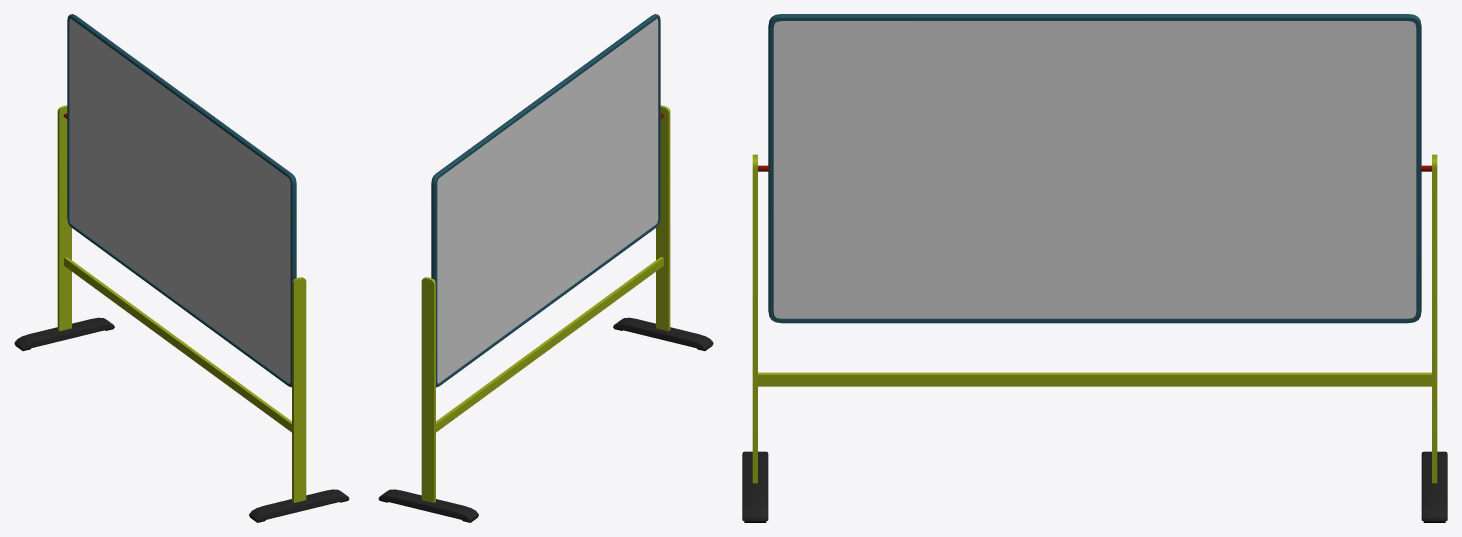
The model's file is Pizarra.fbx.
3 renders of one model, left to right at view 1: azimuth 30°, elevation 25°; view 2: azimuth 150°, elevation 25°; view 3: azimuth 270°, elevation 25°, orthographic. The views are drawn at different scales.
Visible parts, largest first — view 1: Pizarra, Soporte; view 2: Pizarra, Soporte; view 3: Pizarra, Soporte.
Boxes of the visible parts, bbox=[...] form: Pizarra: bbox=[63, 14, 296, 387]; Soporte: bbox=[14, 105, 349, 522]; Pizarra: bbox=[431, 14, 664, 387]; Soporte: bbox=[378, 105, 713, 522]; Pizarra: bbox=[758, 14, 1431, 323]; Soporte: bbox=[742, 154, 1447, 522].
Bounding box in the file's own units: 0.594 × 2.01 × 2.7.
